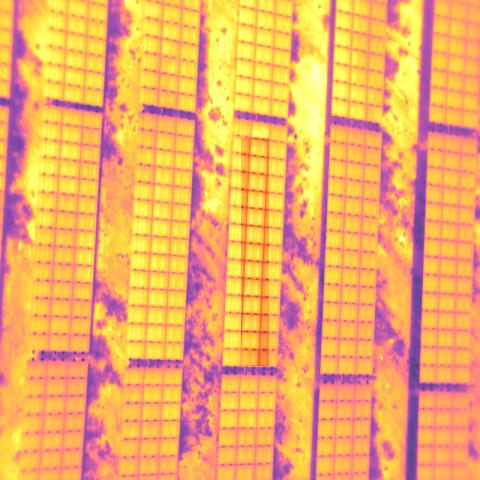fault: (242, 138, 270, 366)
